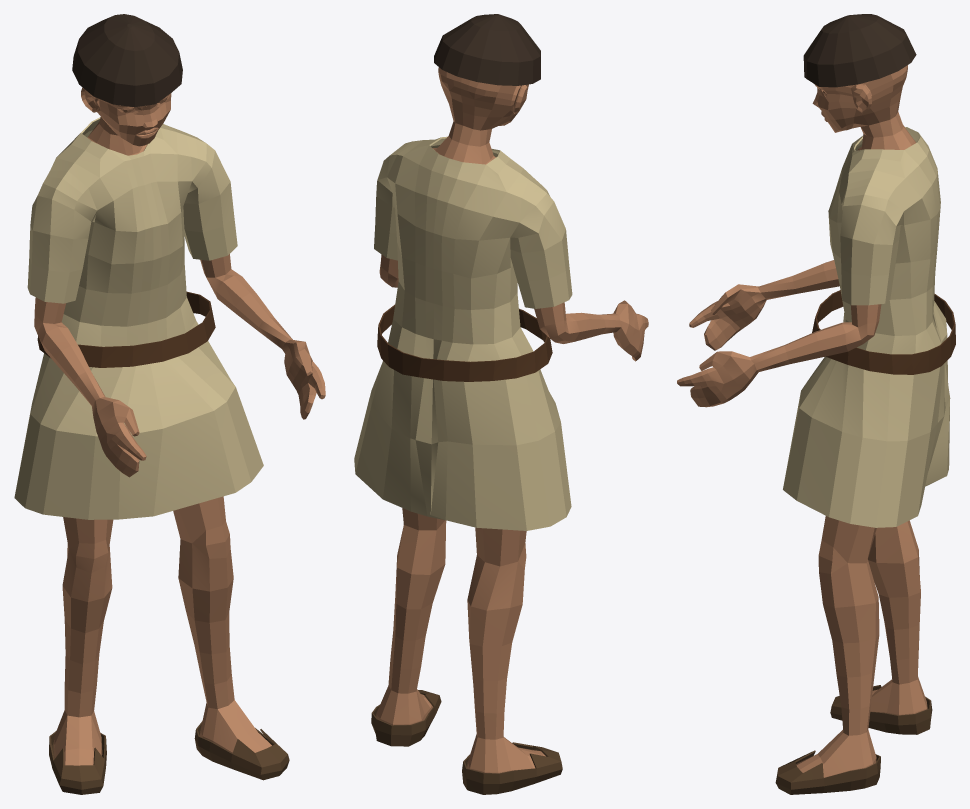
The model's file is citizen-idle-2.glb.
The picture shows the model from 3 angles, left to right: view 1: azimuth 30°, elevation 25°; view 2: azimuth 150°, elevation 25°; view 3: azimuth 270°, elevation 25°; orthographic projection. The views are drawn at different scales.
Parts seen in each view (by area): view 1: Ambient_RomanTunic, Ambient_CharacterBase, Ambient_HairCap, Ambient_RomanSandals, Ambient_LeatherBelt; view 2: Ambient_RomanTunic, Ambient_CharacterBase, Ambient_HairCap, Ambient_LeatherBelt, Ambient_RomanSandals; view 3: Ambient_RomanTunic, Ambient_CharacterBase, Ambient_HairCap, Ambient_RomanSandals, Ambient_LeatherBelt.
Part boxes in pixels (x1,y1,x2,y2): Ambient_RomanTunic: [14, 117, 263, 519]; Ambient_CharacterBase: [34, 87, 325, 765]; Ambient_HairCap: [72, 14, 182, 107]; Ambient_RomanSandals: [49, 721, 289, 794]; Ambient_LeatherBelt: [37, 291, 215, 367]; Ambient_RomanTunic: [354, 136, 572, 530]; Ambient_CharacterBase: [376, 67, 648, 773]; Ambient_HairCap: [434, 14, 540, 85]; Ambient_LeatherBelt: [377, 304, 552, 381]; Ambient_RomanSandals: [371, 690, 562, 794]; Ambient_RomanTunic: [783, 127, 950, 527]; Ambient_CharacterBase: [677, 65, 927, 777]; Ambient_HairCap: [803, 14, 916, 87]; Ambient_RomanSandals: [775, 685, 932, 794]; Ambient_LeatherBelt: [812, 290, 955, 374].
Bounding box in the file's own units: 0.5546 × 1.82 × 0.6381.
